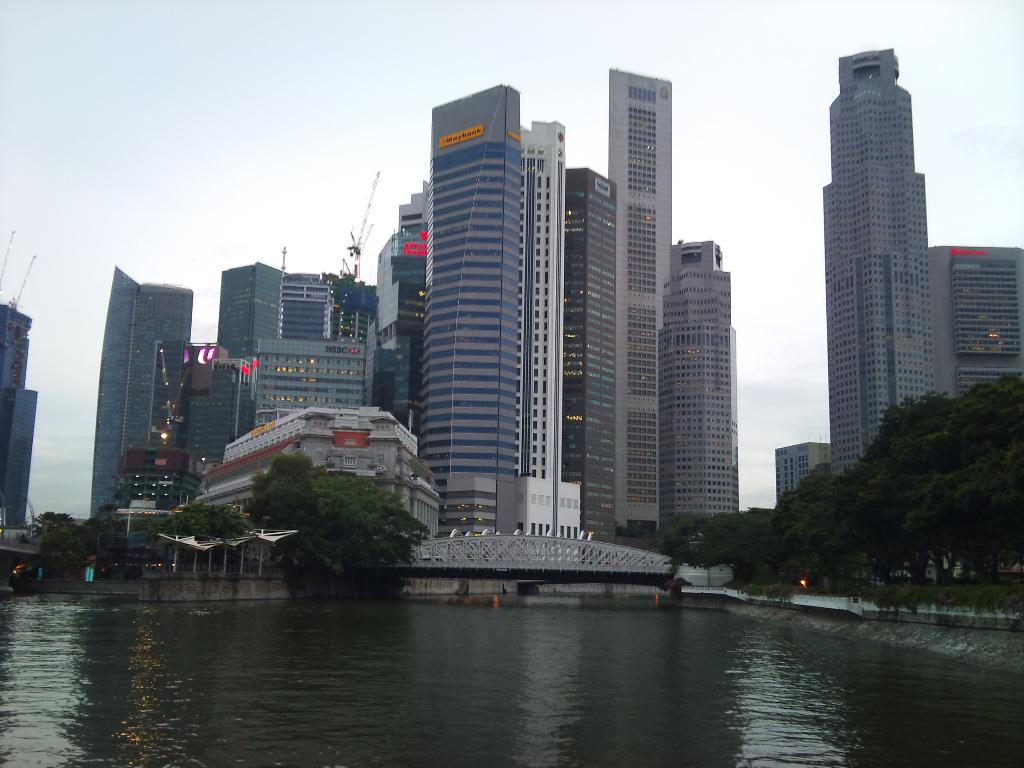Tree: (611, 373, 1023, 590), (243, 446, 434, 574), (16, 513, 128, 574), (141, 501, 260, 543)
